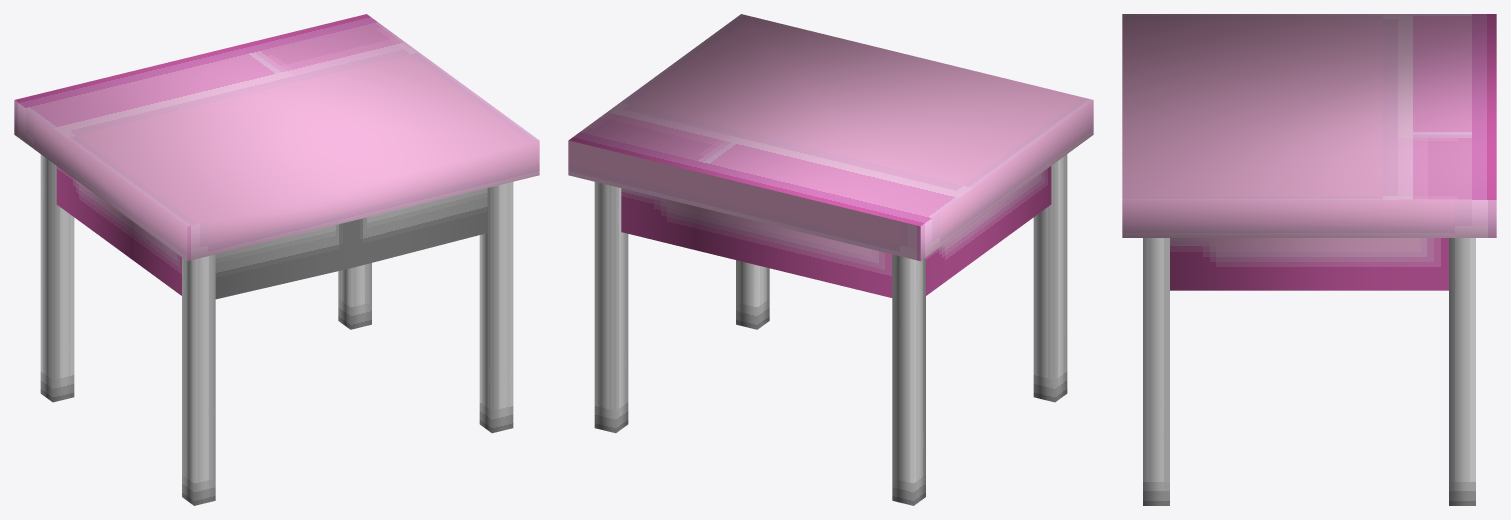
3 renders of one model, left to right at view 1: azimuth 30°, elevation 25°; view 2: azimuth 150°, elevation 25°; view 3: azimuth 270°, elevation 25°, orthographic. The views are drawn at different scales.
Parts seen in each view (by area): view 1: 3232IMSD01_18; view 2: 3232IMSD01_18; view 3: 3232IMSD01_18.
Boxes of the visible parts, left/top/right/bottom form: 3232IMSD01_18: left=14, top=14, right=539, bottom=505; 3232IMSD01_18: left=568, top=14, right=1093, bottom=505; 3232IMSD01_18: left=1122, top=14, right=1496, bottom=505.
Size of the model in its own units: 0.9517 by 0.75 by 0.8081.
2 materials, 2 textured.
